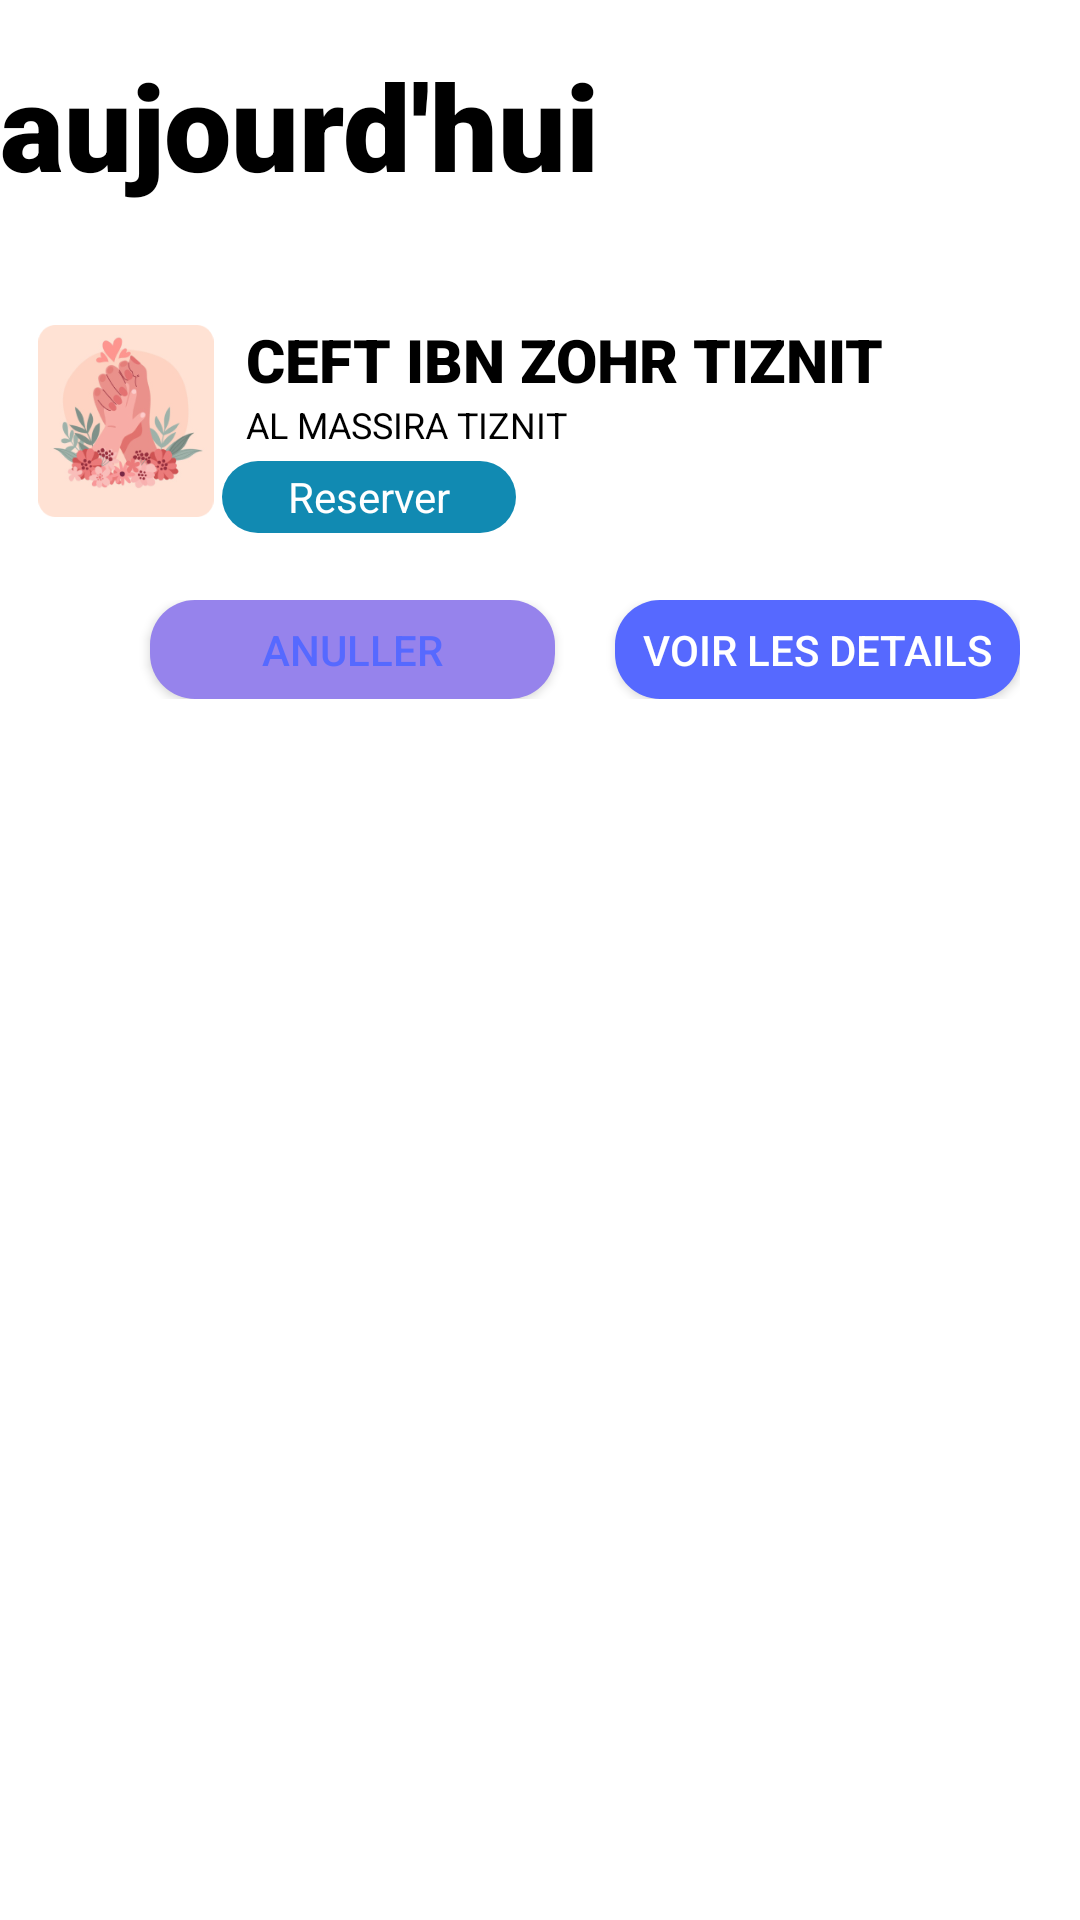

Where to tap for icons on this 1080 x 1920 app screen, as (x,y):
exphotolist: (126,421)
